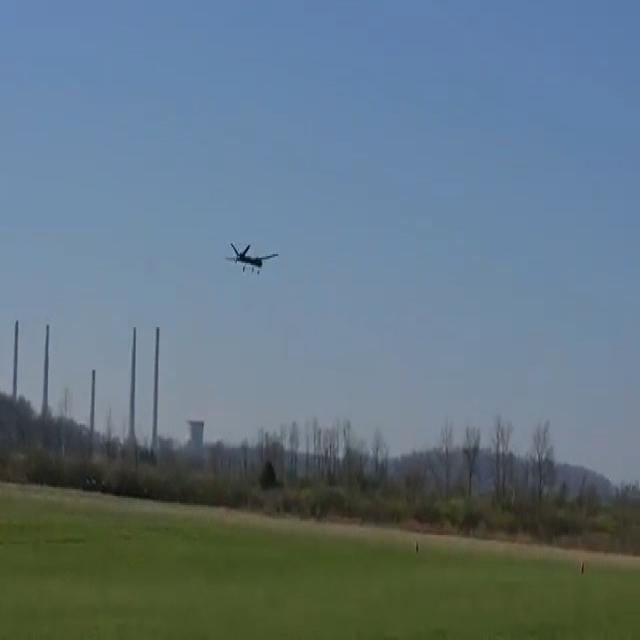iha: (226, 244, 277, 274)
